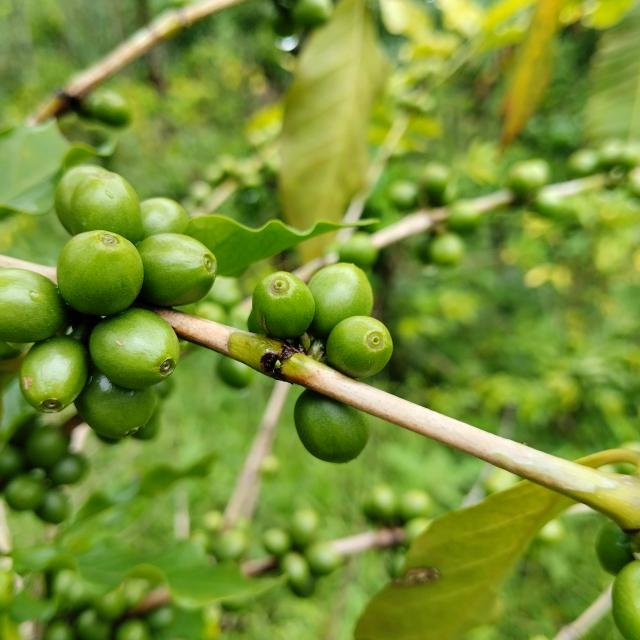green: (88, 308, 180, 389), (56, 230, 143, 315), (73, 366, 156, 439), (136, 233, 217, 306), (294, 390, 371, 464), (69, 171, 142, 244), (18, 336, 87, 413), (0, 268, 67, 343), (308, 262, 374, 338), (252, 271, 315, 339), (327, 316, 393, 378), (54, 164, 107, 234), (613, 561, 640, 640), (139, 197, 188, 239)
